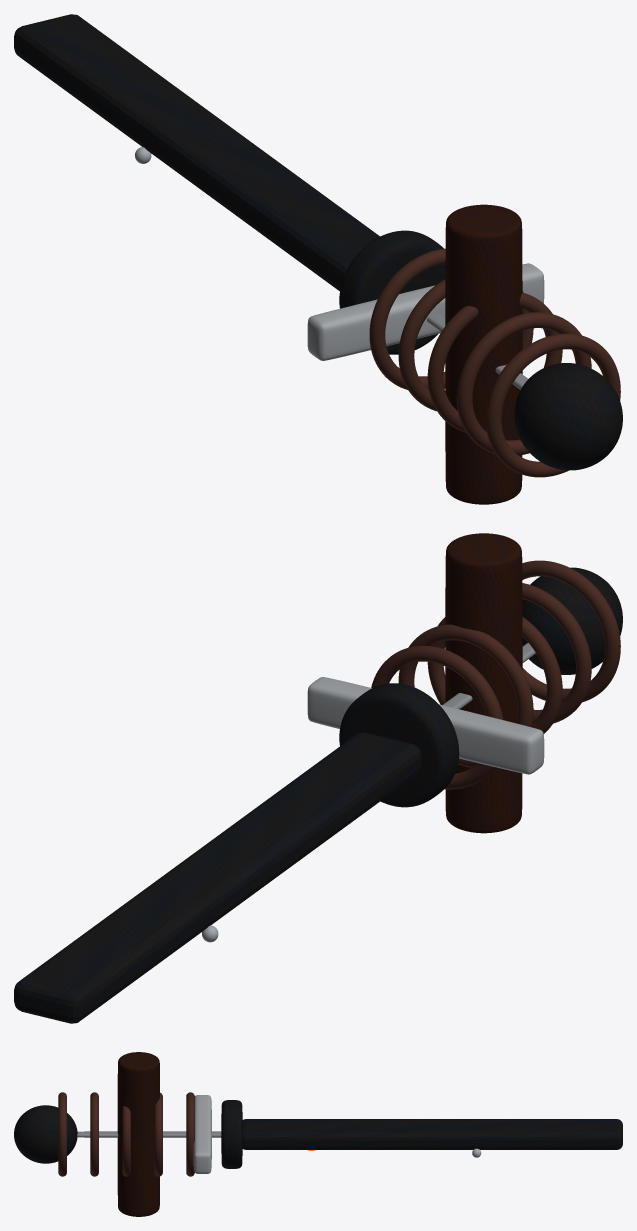
Rendered from hearth_knife.glb.
The picture shows the model from 3 angles, top to bottom: view 1: azimuth 30°, elevation 25°; view 2: azimuth 150°, elevation 25°; view 3: azimuth 270°, elevation 25°; orthographic projection. The views are drawn at different scales.
Visible parts, largest first — view 1: HearthKnife_Blade, HearthKnife_Grip, HearthKnife_Pommel, detail_weapon_guard, HearthKnife_Guard, detail_weapon_wrap, detail_weapon_wrap.001, detail_weapon_wrap.002, detail_weapon_wrap.004, detail_weapon_wrap.003; view 2: HearthKnife_Blade, HearthKnife_Grip, HearthKnife_Guard, detail_weapon_guard, HearthKnife_Pommel, detail_weapon_wrap, detail_weapon_wrap.004, detail_weapon_wrap.003, detail_weapon_wrap.001, detail_weapon_wrap.002; view 3: HearthKnife_Blade, HearthKnife_Grip, HearthKnife_Pommel, HearthKnife_Guard, detail_weapon_guard, detail_weapon_wrap, detail_weapon_wrap.001, detail_weapon_wrap.004, detail_weapon_wrap.003, detail_weapon_wrap.002, detail_blade_spine.
Part boxes in pixels (x1,y1,x2,y2): HearthKnife_Blade: (14,14,379,291); HearthKnife_Grip: (445,204,522,504); HearthKnife_Pommel: (514,363,622,470); detail_weapon_guard: (307,263,544,360); HearthKnife_Guard: (339,230,445,354); detail_weapon_wrap: (486,333,620,477); detail_weapon_wrap.001: (456,312,591,455); detail_weapon_wrap.002: (427,292,562,432); detail_weapon_wrap.004: (369,248,445,389); detail_weapon_wrap.003: (398,279,533,411); HearthKnife_Blade: (14,732,421,1023); HearthKnife_Grip: (445,533,522,833); HearthKnife_Guard: (339,683,459,807); detail_weapon_guard: (307,677,544,774); HearthKnife_Pommel: (522,567,622,674); detail_weapon_wrap: (522,560,620,702); detail_weapon_wrap.004: (371,645,503,789); detail_weapon_wrap.003: (398,624,533,767); detail_weapon_wrap.001: (522,583,591,723); detail_weapon_wrap.002: (427,617,562,733); HearthKnife_Blade: (242,1119,622,1149); HearthKnife_Grip: (117,1052,159,1216); HearthKnife_Pommel: (14,1105,77,1163); HearthKnife_Guard: (221,1100,242,1168); detail_weapon_guard: (193,1095,211,1173); detail_weapon_wrap: (58,1092,66,1176); detail_weapon_wrap.001: (90,1092,98,1176); detail_weapon_wrap.004: (186,1092,194,1176); detail_weapon_wrap.003: (154,1092,162,1176); detail_weapon_wrap.002: (122,1106,130,1176); detail_blade_spine: (77,1131,221,1137).
Size of the model in its own units: 0.5416 by 0.62 by 2.29.
Materials: 8 (2 with a texture image).
